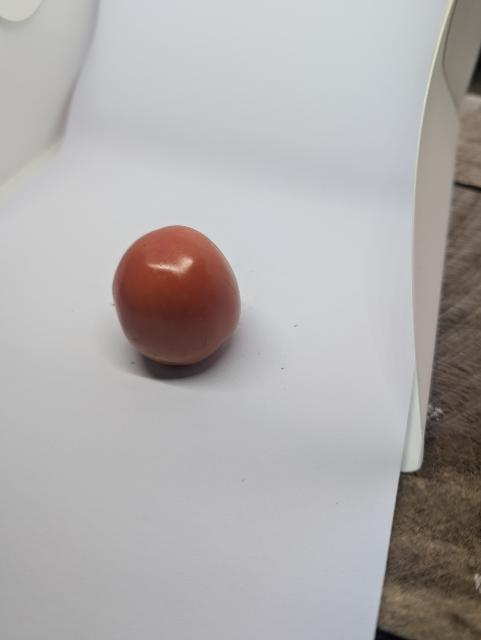red: (110, 223, 250, 377)
